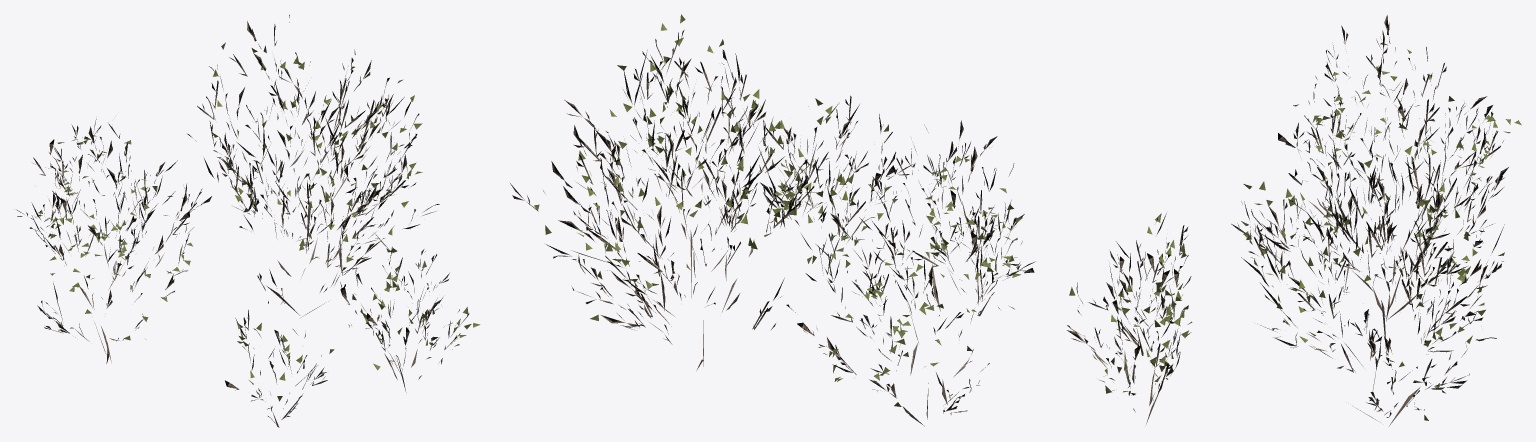
Rendered from searsia_lucida_v1.glb.
3 renders of one model, left to right at view 1: azimuth 30°, elevation 25°; view 2: azimuth 150°, elevation 25°; view 3: azimuth 270°, elevation 25°, orthographic. The views are drawn at different scales.
Visible parts, largest first — view 1: lod0; view 2: lod0; view 3: lod0.
Part boxes in pixels (<box>): lod0: <box>16,14,480,427</box>; lod0: <box>510,14,1035,426</box>; lod0: <box>1066,15,1521,425</box>.
Size of what is drawn, in the model's own units: 3.14 by 2.24 by 2.74.
3 materials, 3 textured.
